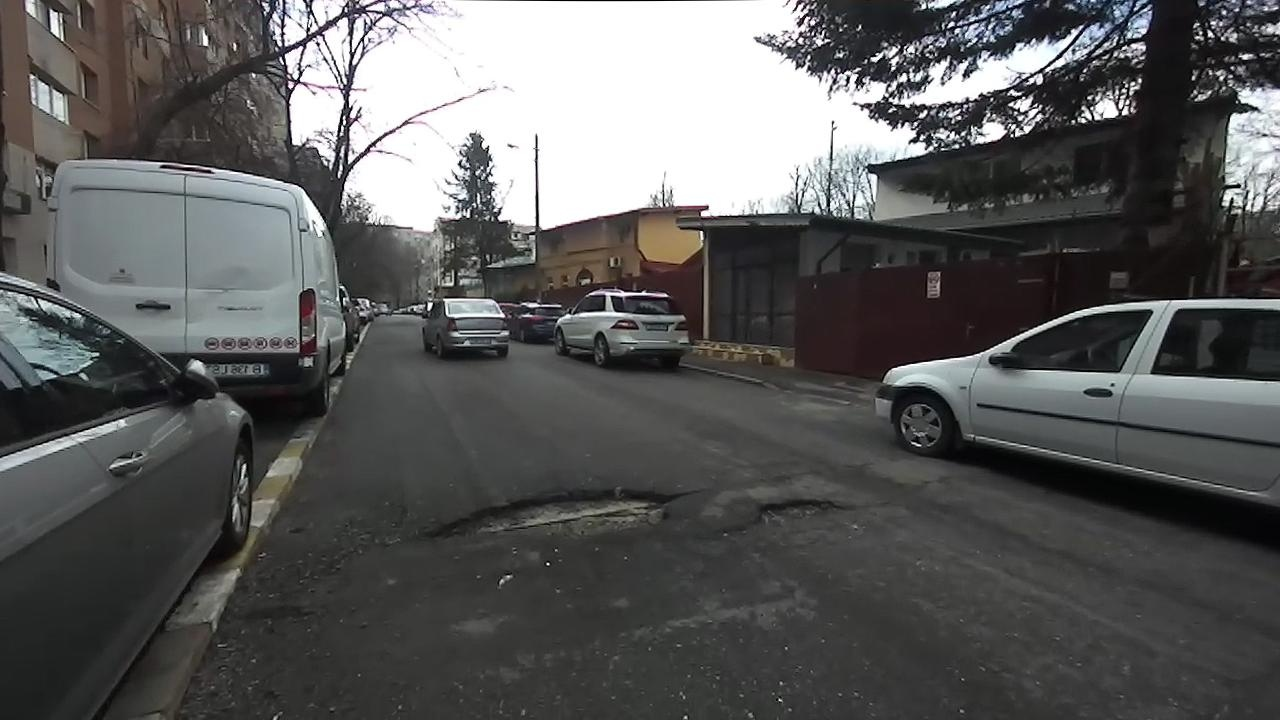pothole: (407, 478, 700, 561), (724, 495, 856, 537)
